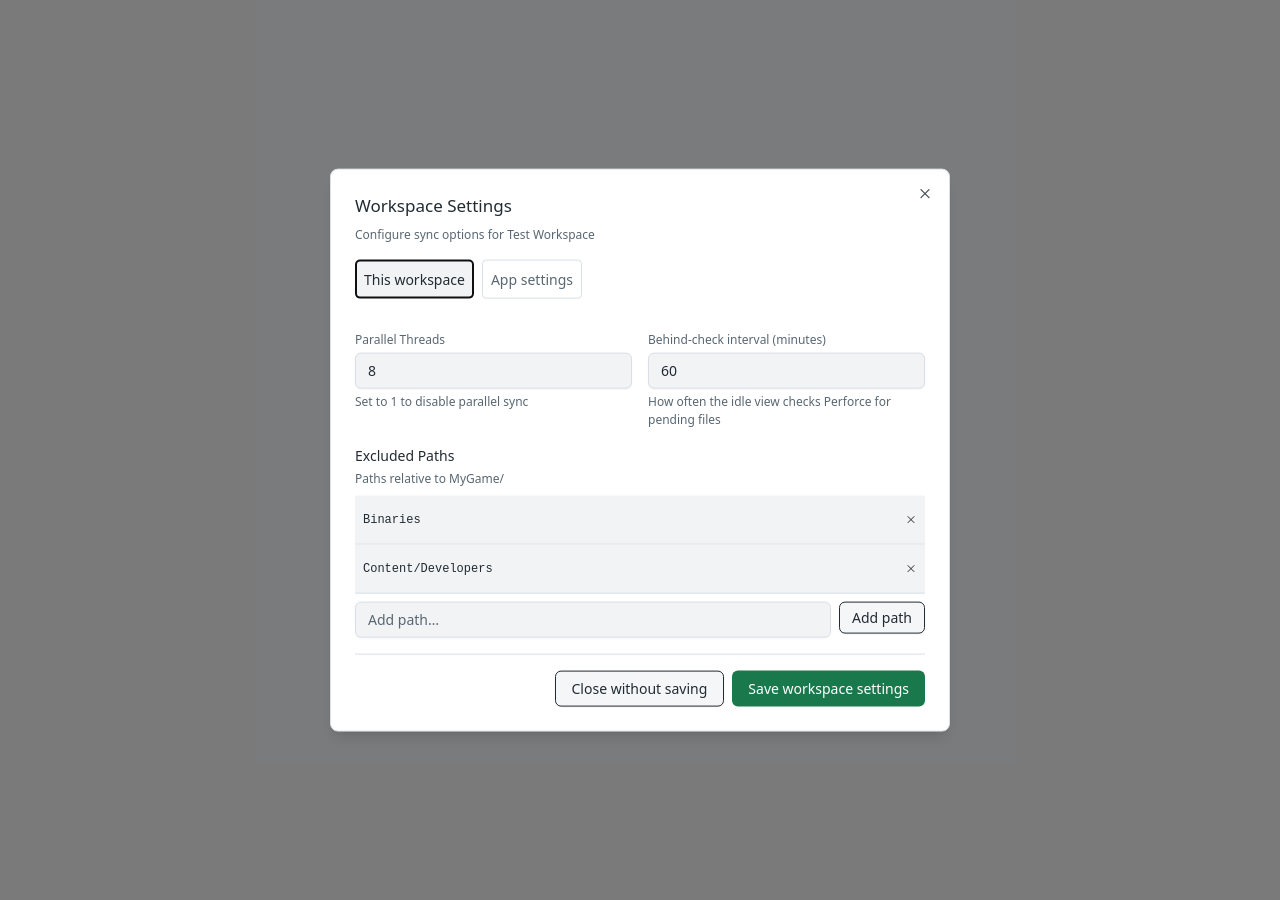
SettingsDialog › language option labels equal settings.language.zh and settings.language.en
Click the button "App settings": (532, 279) [482, 259, 582, 298]
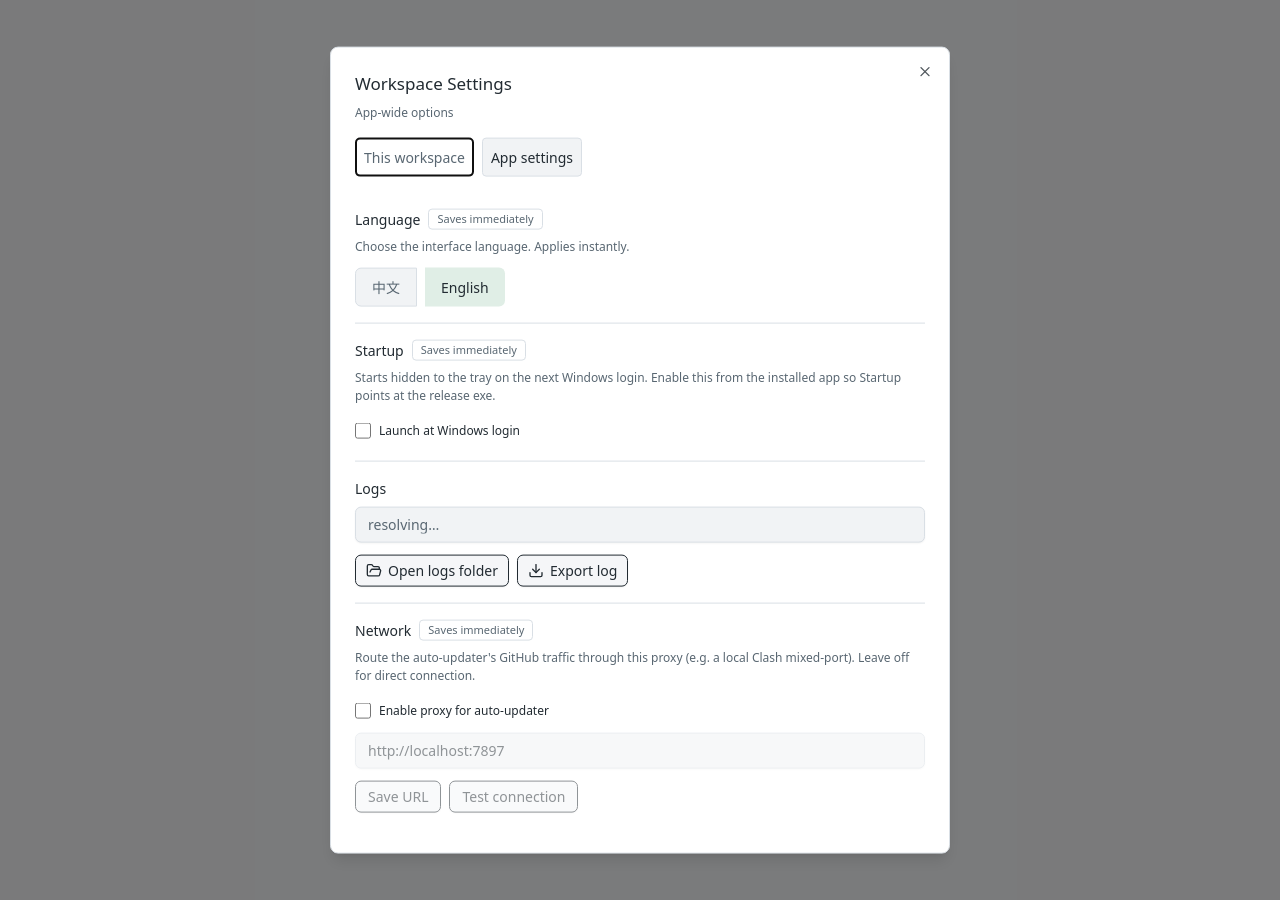
Result: the radio button labelled "中文" is shown at [355, 267, 417, 306]
Result: the radio button labelled "English" is shown at [425, 267, 505, 306]
